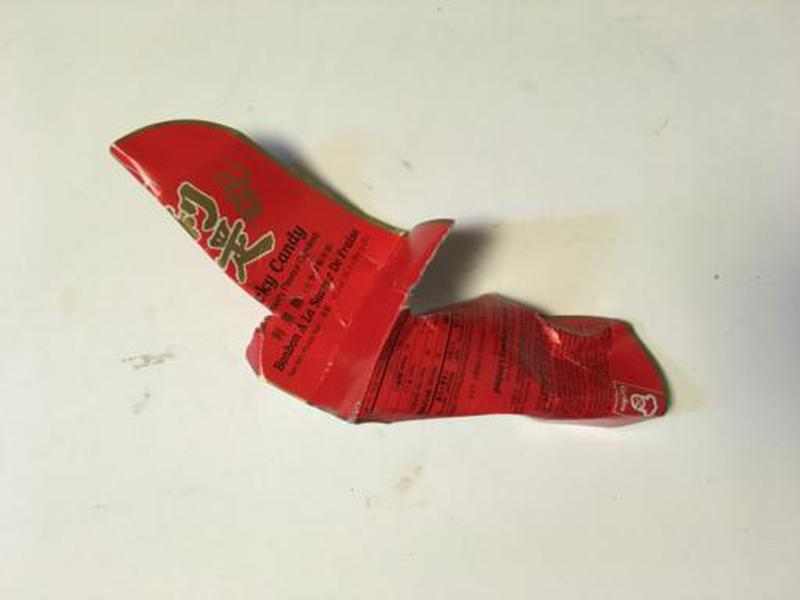paper: (104, 114, 676, 432)
